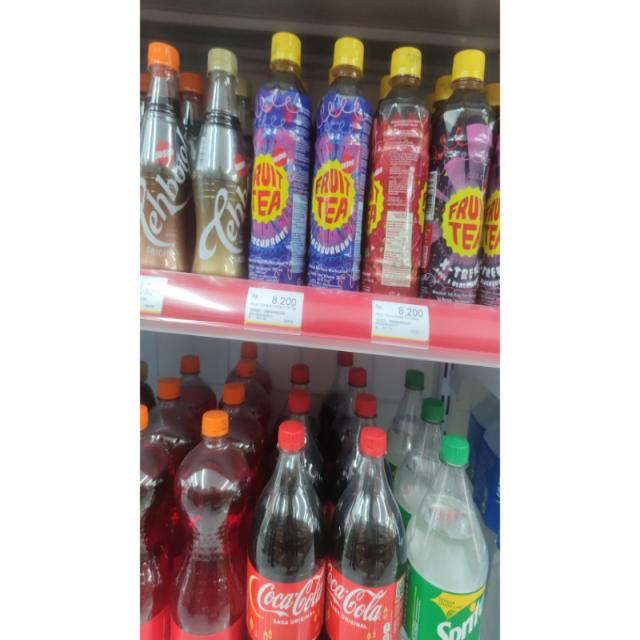botol: (360, 29, 442, 321), (250, 10, 325, 317), (170, 405, 267, 640), (305, 15, 380, 313), (423, 31, 497, 324), (246, 413, 337, 640), (324, 419, 411, 640), (195, 28, 267, 280), (133, 32, 203, 288), (407, 432, 490, 640), (125, 397, 178, 640), (389, 391, 463, 542), (272, 386, 351, 515), (339, 390, 407, 532), (211, 376, 274, 480), (152, 363, 209, 460)
